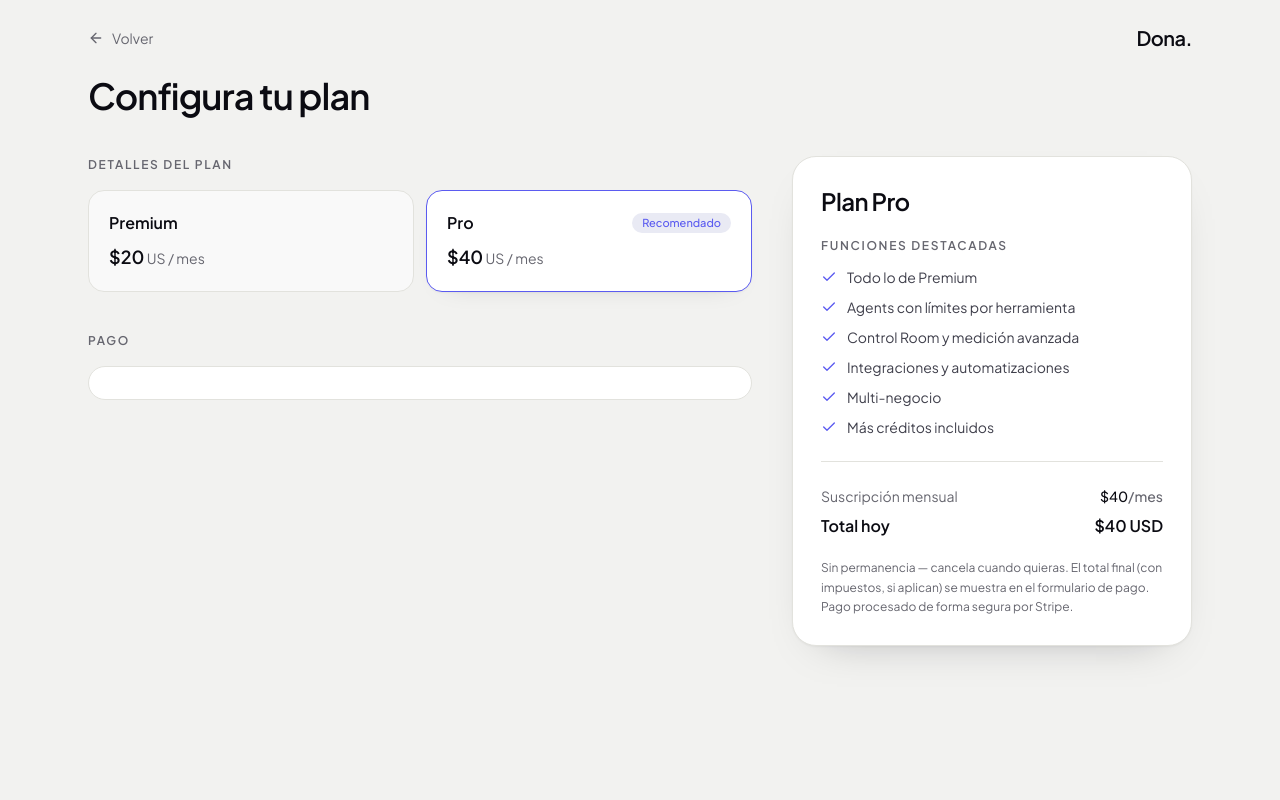
Scenario: CheckoutClient · embebido › cambiar de plan destruye la instancia y crea sesión del plan nuevo
Click the radio button labelled "Premium $20 US / mes".
click(143, 222)  # box [88,190,414,292]
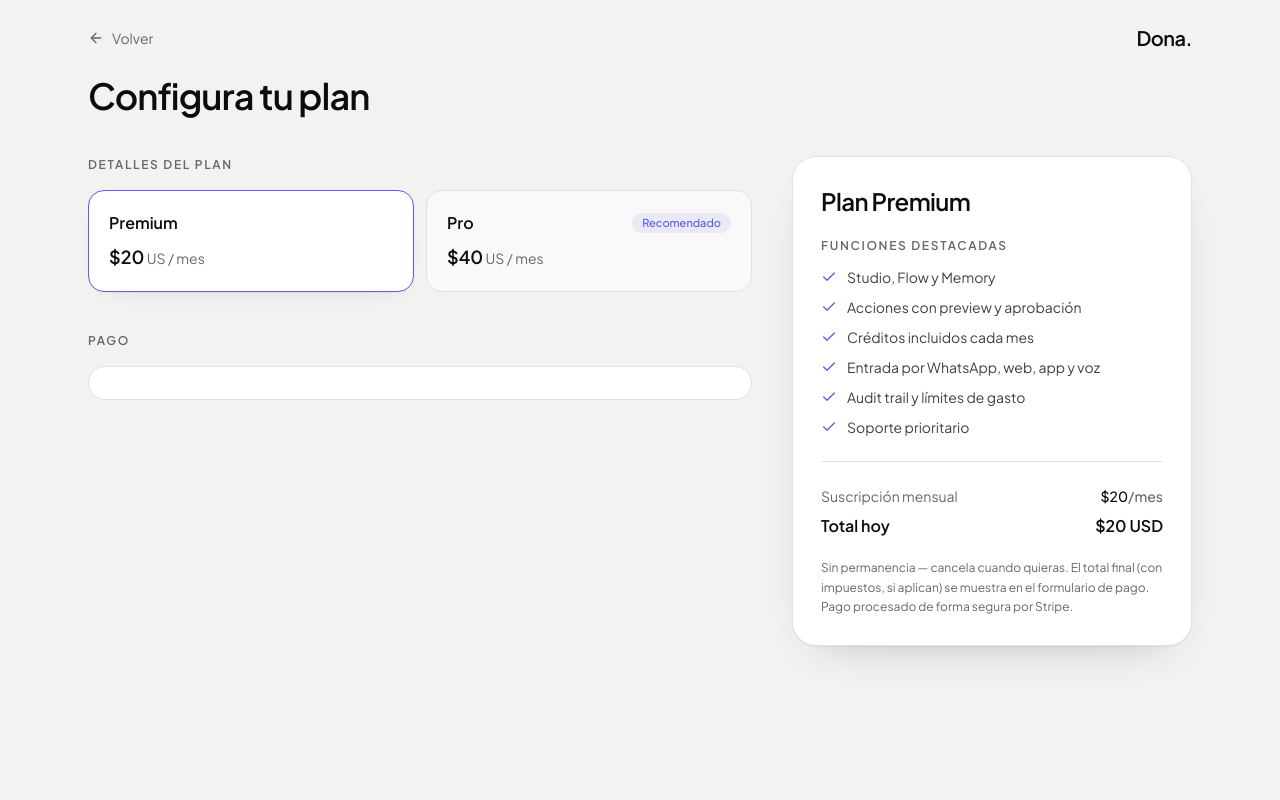
Expected: the heading "Plan Premium" is shown, [821,186,970,216]
